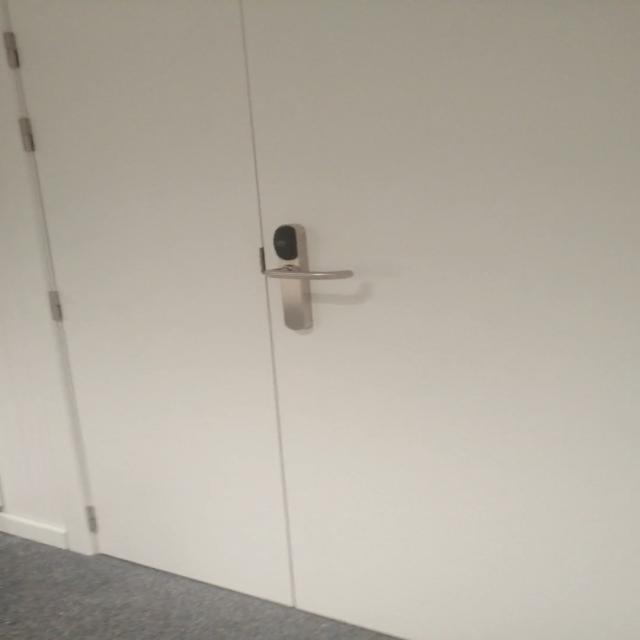door_handle: (258, 262, 359, 283)
